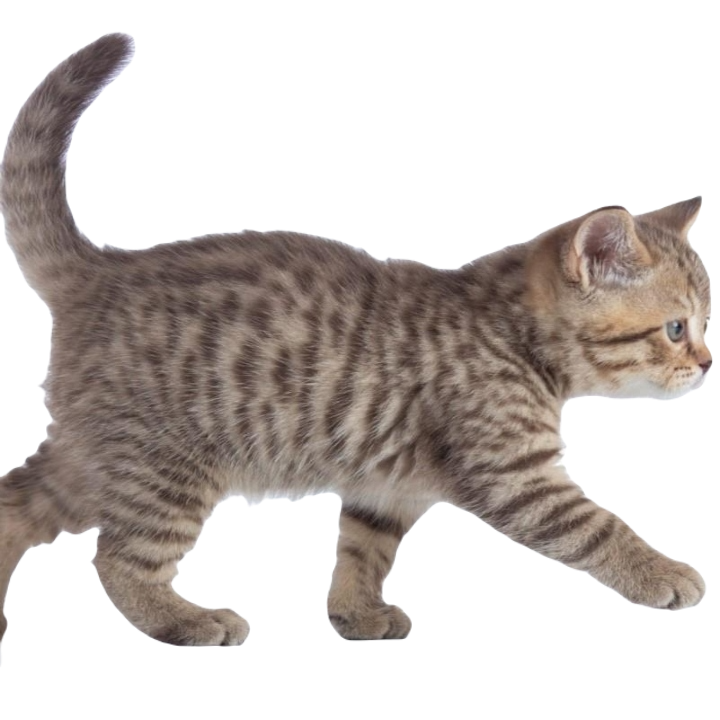Cat: (0, 27, 720, 650)
